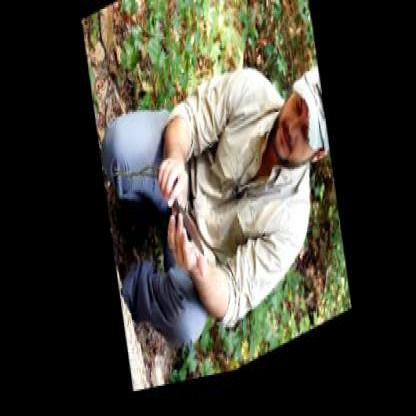knife: (152, 150, 206, 289)
